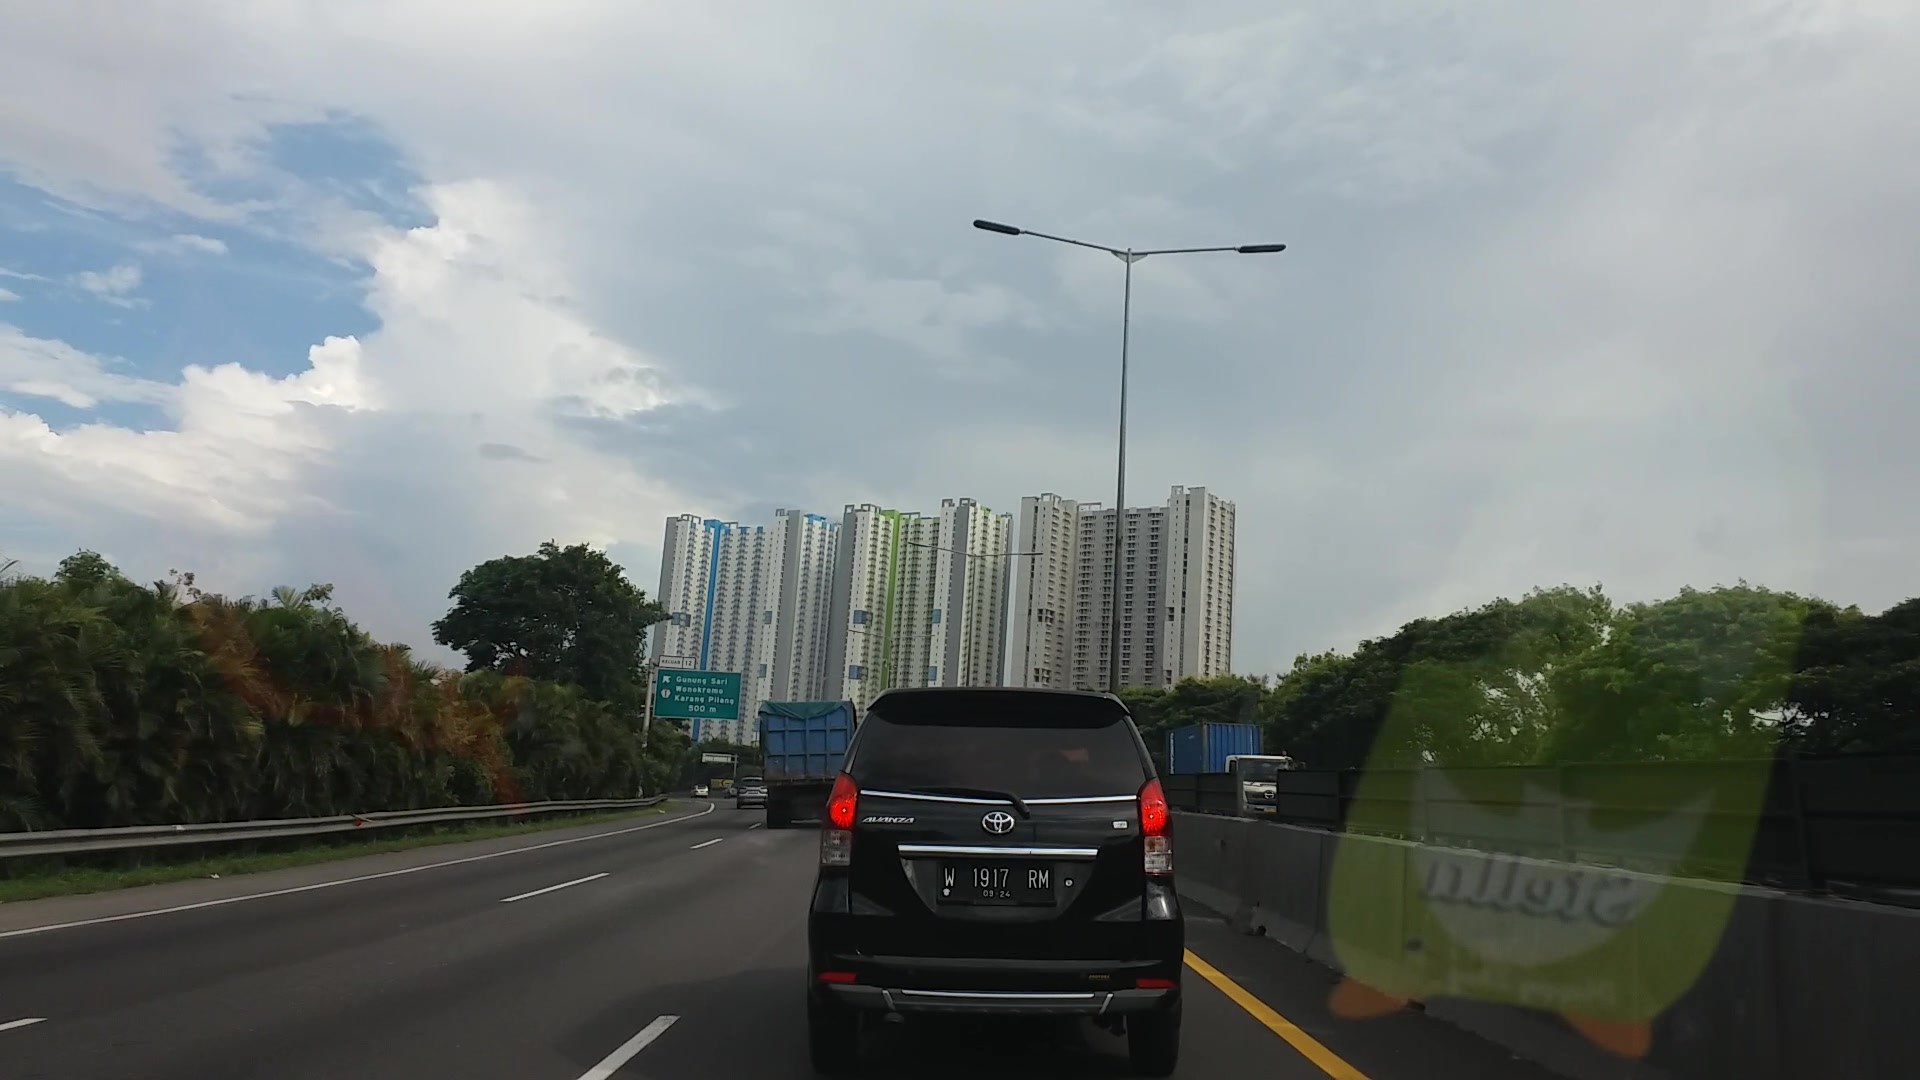plate_positive: (939, 861, 1052, 901)
